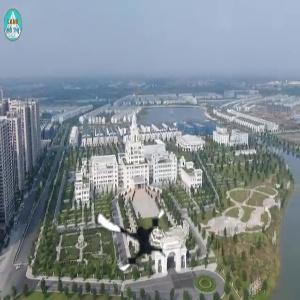drone: (93, 192, 177, 276)
